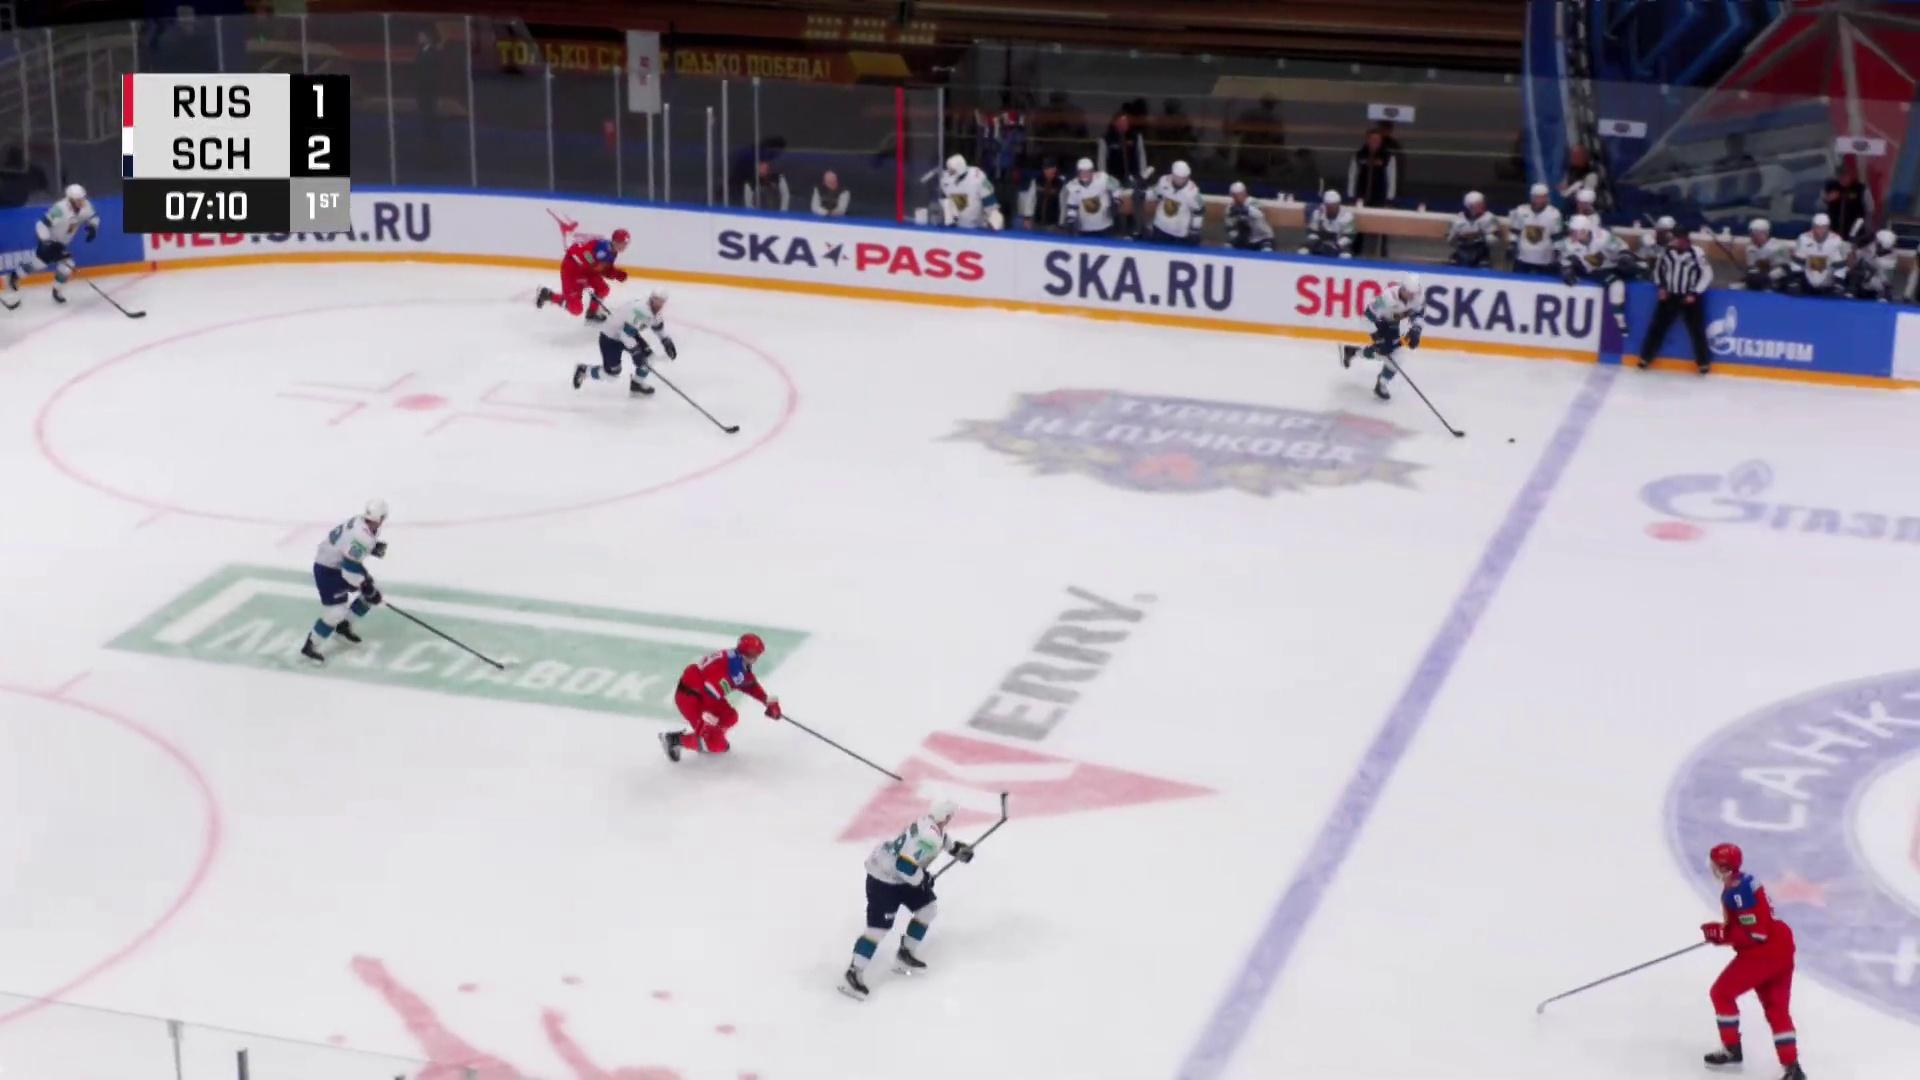ball: (1506, 438, 1516, 443)
